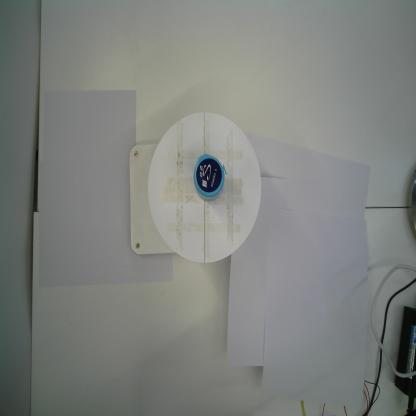Gum: (193, 152, 226, 202)
